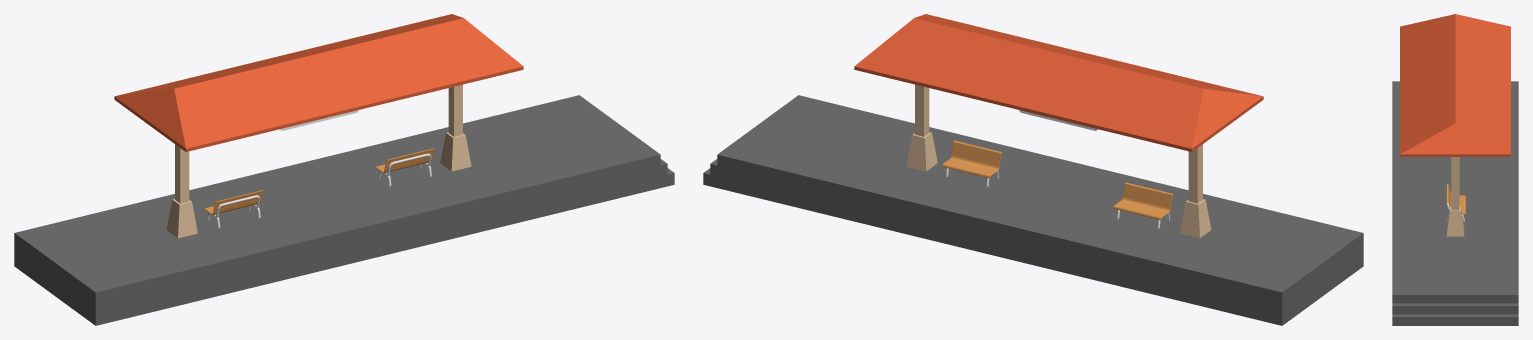
The model's file is train_station.fbx.
3 renders of one model, left to right at view 1: azimuth 30°, elevation 25°; view 2: azimuth 150°, elevation 25°; view 3: azimuth 270°, elevation 25°, orthographic. The views are drawn at different scales.
Parts seen in each view (by area): view 1: Platform, Roof, Pillars, Bench.002, Bench.001; view 2: Platform, Roof, Pillars, Bench.001, Bench.002; view 3: Platform, Roof, Pillars, Bench.002.
Boxes of the visible parts, x1,y1,x2,y2 form: Platform: (14, 95, 674, 325); Roof: (114, 14, 523, 151); Pillars: (166, 84, 471, 238); Bench.002: (374, 148, 434, 173); Bench.001: (203, 190, 263, 214); Platform: (703, 95, 1363, 325); Roof: (854, 14, 1263, 151); Pillars: (906, 84, 1211, 238); Bench.001: (1113, 182, 1172, 220); Bench.002: (942, 140, 1001, 178); Platform: (1392, 81, 1518, 325); Roof: (1400, 14, 1510, 156); Pillars: (1446, 157, 1464, 236); Bench.002: (1447, 184, 1465, 214).
Bounding box in the file's own units: 9235 × 2720 × 2248.
